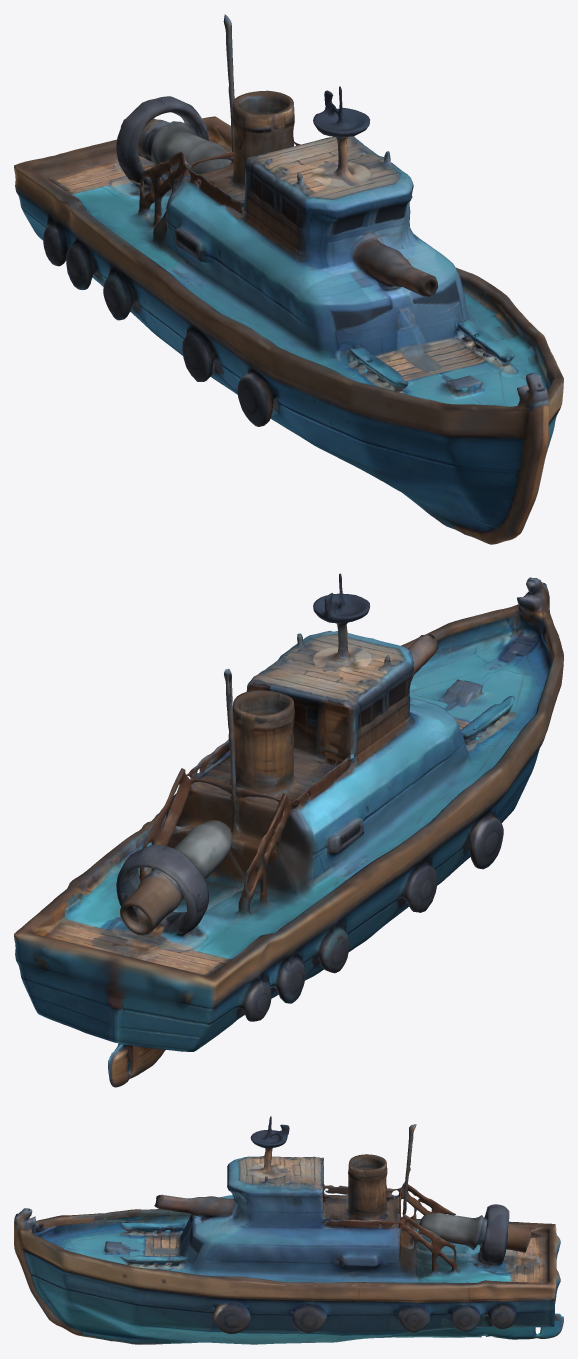
Rendered from Boat.fbx.
The picture shows the model from 3 angles, top to bottom: view 1: azimuth 30°, elevation 25°; view 2: azimuth 150°, elevation 25°; view 3: azimuth 270°, elevation 25°; orthographic projection. The views are drawn at different scales.
Parts seen in each view (by area): view 1: Mesh_0; view 2: Mesh_0; view 3: Mesh_0.
Boxes of the visible parts, left/top/right/bottom form: Mesh_0: left=14, top=14, right=563, bottom=544; Mesh_0: left=14, top=573, right=563, bottom=1087; Mesh_0: left=14, top=1116, right=563, bottom=1344.
Size of the model in its own units: 64.57 by 91.22 by 199.
Materials: 1 (1 with a texture image).
